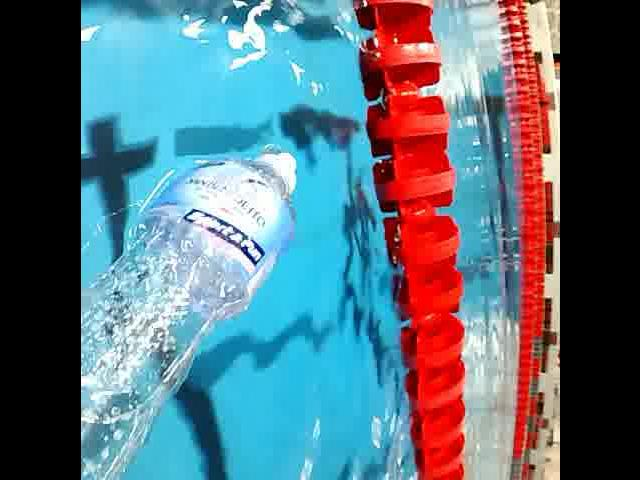Bottle: (80, 135, 303, 480)
